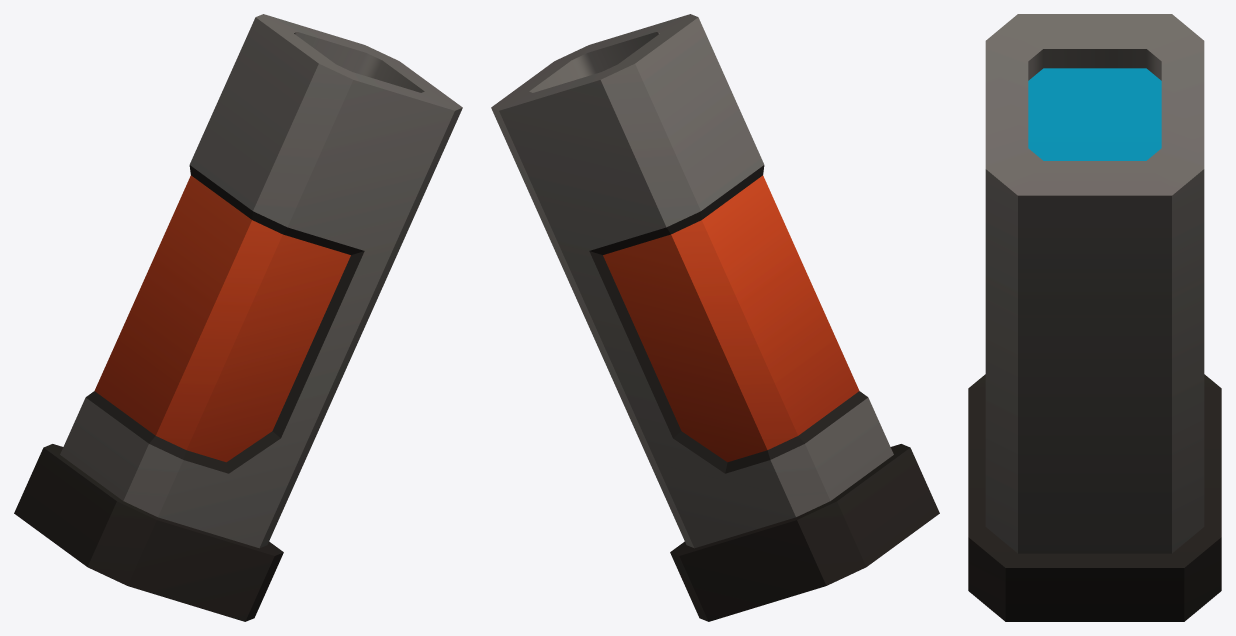
File: SMG1_Magazine.fbx
The picture shows the model from 3 angles, left to right: view 1: azimuth 30°, elevation 25°; view 2: azimuth 150°, elevation 25°; view 3: azimuth 270°, elevation 25°; orthographic projection. The views are drawn at different scales.
Visible parts, largest first — view 1: SMG1_Magazine; view 2: SMG1_Magazine; view 3: SMG1_Magazine.
Boxes of the visible parts, box(x1,y1,x2,y2) form: SMG1_Magazine: box(14, 14, 462, 621); SMG1_Magazine: box(491, 14, 939, 621); SMG1_Magazine: box(968, 14, 1221, 621).
Bounding box in the file's own units: 8.29 × 11.11 × 3.93.
